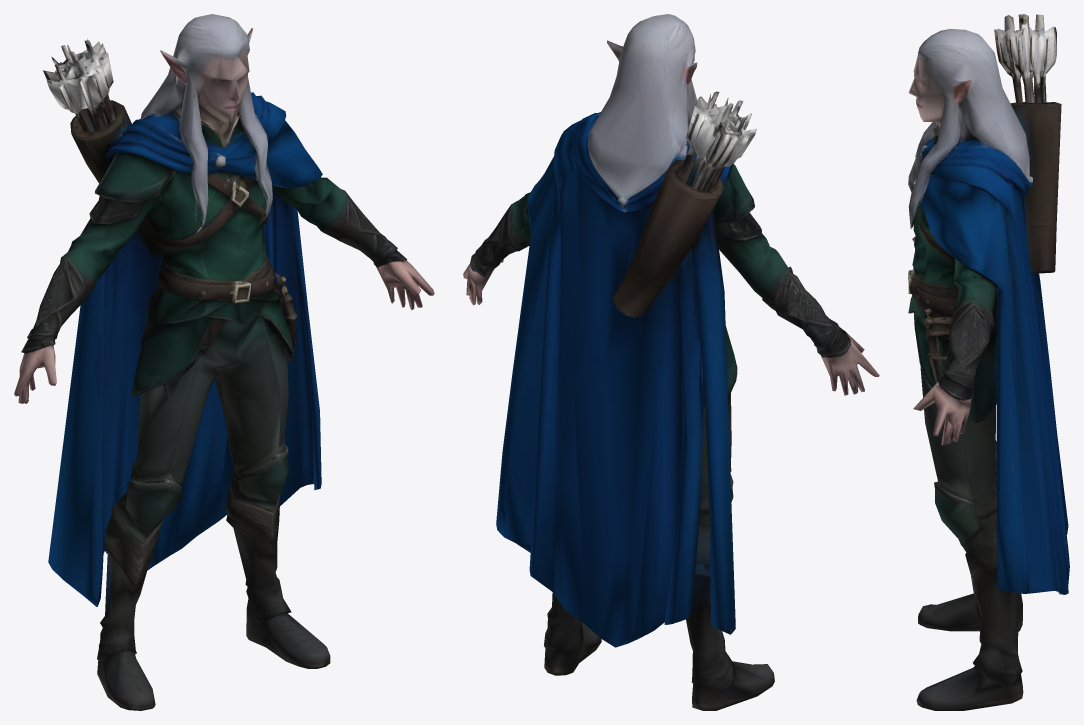
Rendered from elf_arch.glb.
The picture shows the model from 3 angles, left to right: view 1: azimuth 30°, elevation 25°; view 2: azimuth 150°, elevation 25°; view 3: azimuth 270°, elevation 25°; orthographic projection. The views are drawn at different scales.
Parts seen in each view (by area): view 1: node_0; view 2: node_0; view 3: node_0.
Boxes of the visible parts, x1,y1,x2,y2 form: node_0: (14, 14, 434, 710); node_0: (463, 14, 879, 710); node_0: (908, 14, 1069, 710).
Bounding box in the file's own units: 0.7578 × 1.13 × 0.2631.
1 material, 1 textured.
